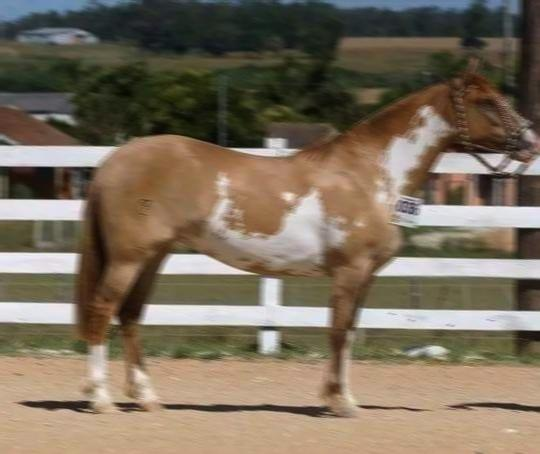horse: (71, 54, 540, 417)
